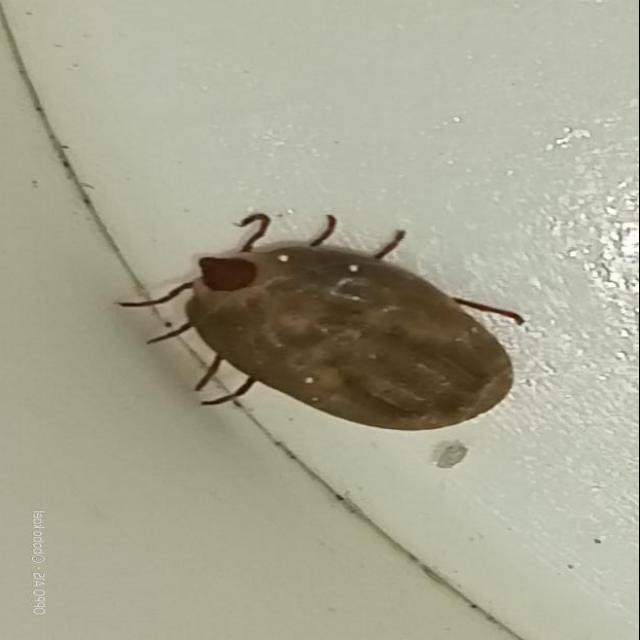Rhipicephalus Sanguineus-F-Fed: (116, 211, 526, 431)
